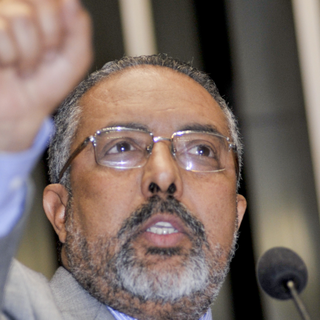eye: (100, 135, 142, 161), (180, 140, 223, 165)
